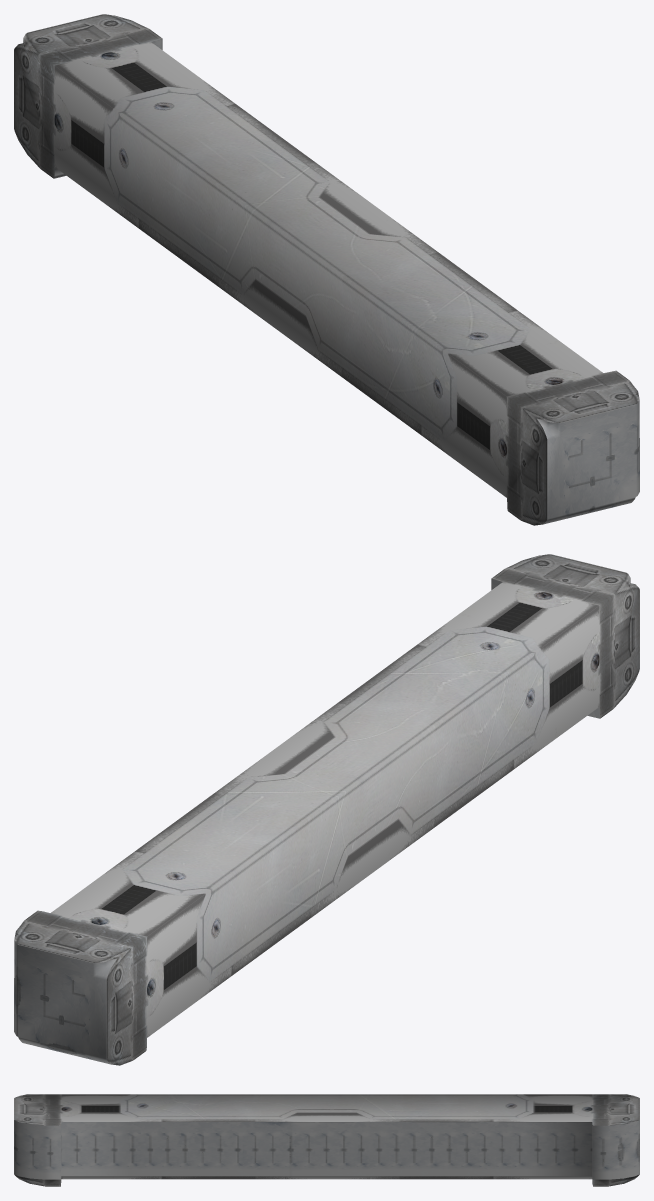
File: SM_PillarS02.fbx
The picture shows the model from 3 angles, top to bottom: view 1: azimuth 30°, elevation 25°; view 2: azimuth 150°, elevation 25°; view 3: azimuth 270°, elevation 25°; orthographic projection. The views are drawn at different scales.
Parts seen in each view (by area): view 1: SM_PillarS02_LOD0; view 2: SM_PillarS02_LOD0; view 3: SM_PillarS02_LOD0.
Boxes of the visible parts, bbox=[...] form: SM_PillarS02_LOD0: bbox=[14, 14, 639, 525]; SM_PillarS02_LOD0: bbox=[14, 554, 639, 1065]; SM_PillarS02_LOD0: bbox=[14, 1094, 639, 1186].
Size of the model in its own units: 40 by 340 by 40.
2 materials, 2 textured.
